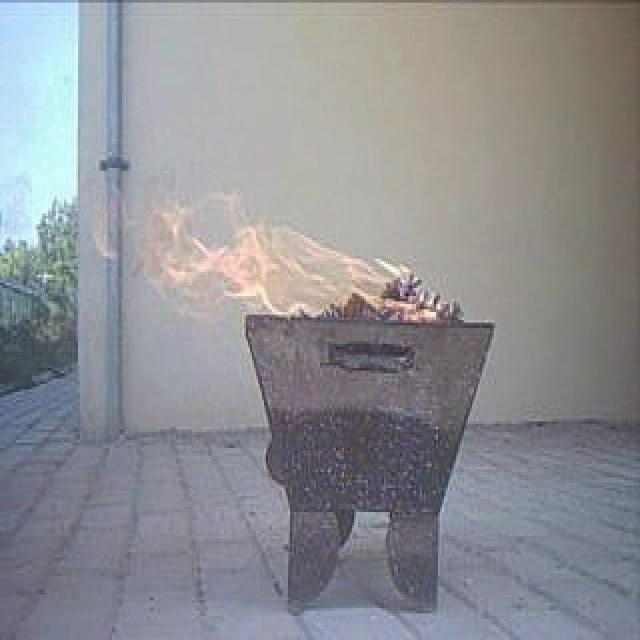fire: (126, 200, 445, 328)
